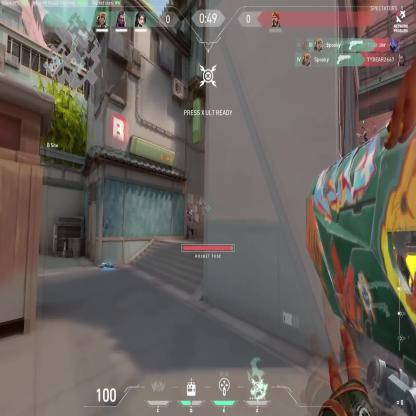enemy: (186, 204, 194, 240)
enemy_head: (188, 206, 190, 210)
